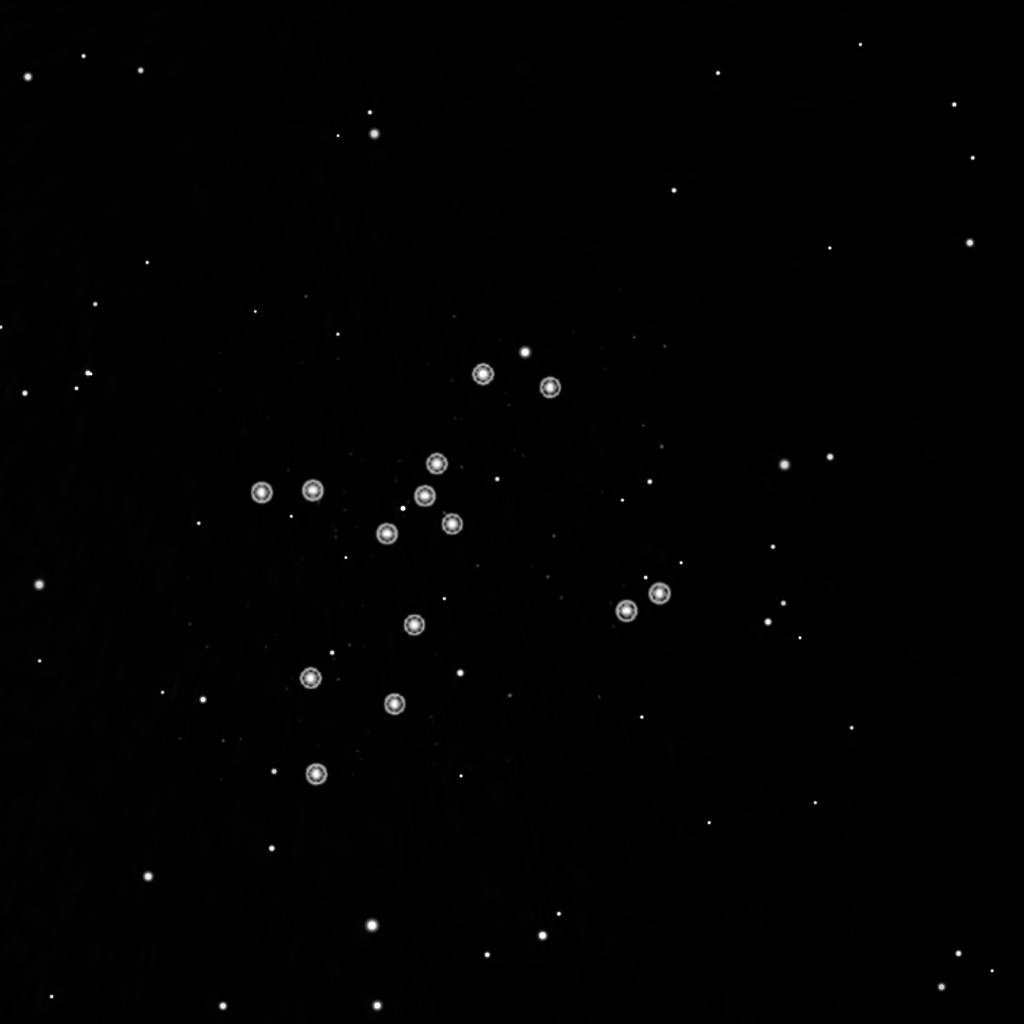canis_major: (367, 361, 568, 554)
